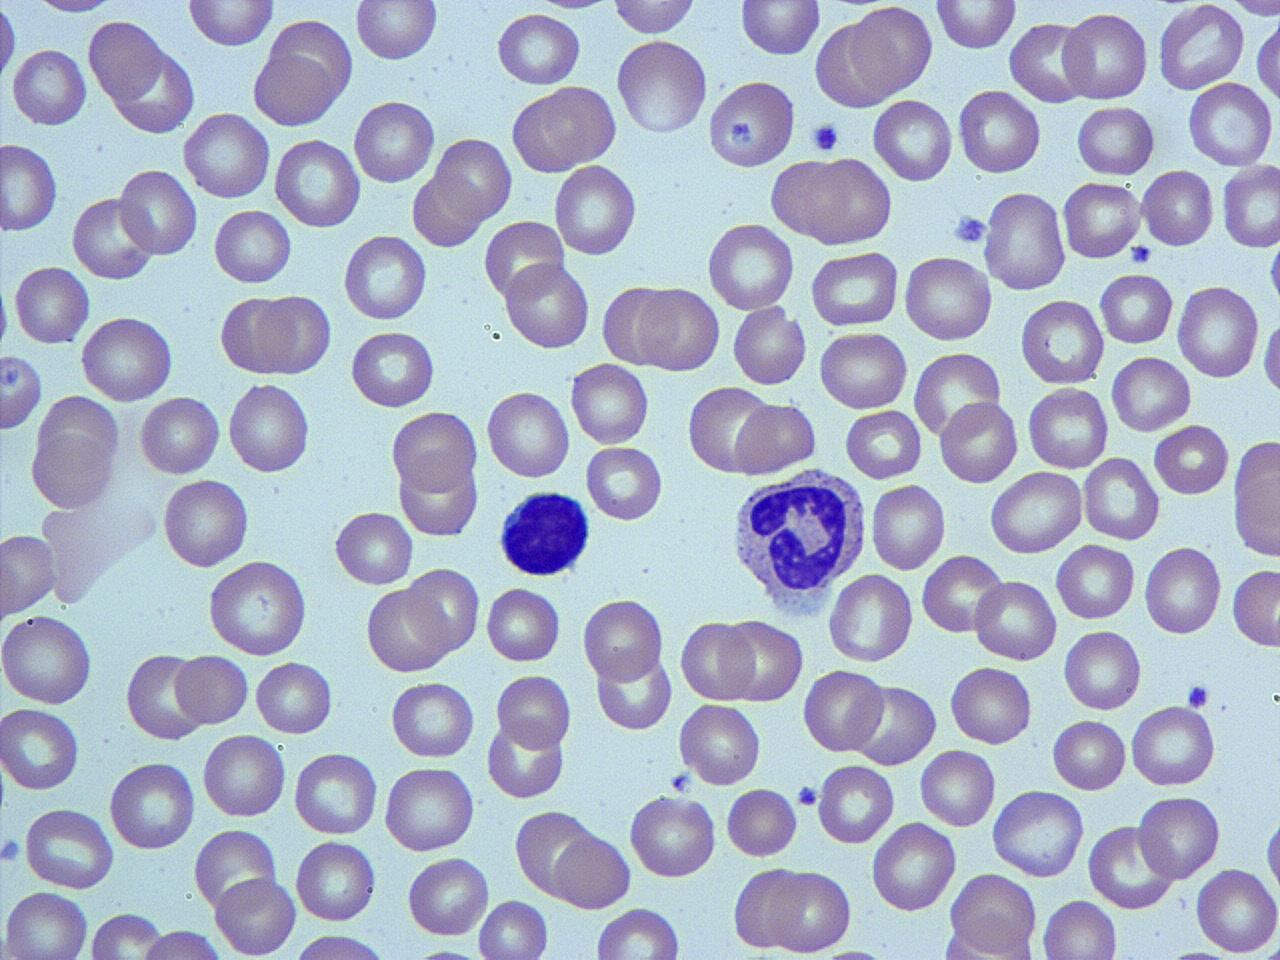Platelets: (950, 211, 990, 247), (809, 119, 841, 156), (823, 942, 884, 960), (0, 284, 13, 352), (0, 832, 24, 866), (1185, 683, 1213, 710), (794, 782, 820, 810), (1127, 241, 1153, 267)
RBC: (208, 558, 310, 659), (613, 35, 709, 137), (0, 610, 96, 708), (982, 187, 1070, 292), (78, 312, 177, 405), (160, 474, 252, 572), (551, 159, 639, 261), (704, 219, 796, 315), (990, 788, 1086, 880), (911, 347, 1004, 441), (626, 790, 719, 884), (272, 134, 363, 230), (502, 258, 592, 355), (986, 469, 1084, 558), (869, 818, 958, 916), (380, 765, 478, 854), (224, 378, 312, 477), (180, 109, 273, 202), (107, 758, 197, 854), (826, 569, 915, 666), (484, 386, 572, 484), (1060, 8, 1150, 103), (1175, 280, 1261, 379), (706, 77, 796, 171), (340, 230, 429, 324), (900, 254, 994, 343), (112, 40, 198, 137), (1154, 3, 1246, 93), (815, 328, 912, 413), (1141, 542, 1225, 640), (1018, 294, 1106, 387), (200, 729, 288, 822), (192, 824, 278, 919), (1086, 820, 1174, 912), (1186, 78, 1274, 169), (956, 86, 1043, 178), (686, 383, 772, 476), (23, 804, 116, 890), (676, 700, 764, 790), (292, 747, 379, 838), (847, 4, 933, 96), (1193, 864, 1279, 956), (1136, 791, 1222, 882), (568, 357, 652, 450), (946, 871, 1040, 954), (800, 668, 888, 756), (351, 97, 437, 187), (808, 246, 900, 330), (388, 409, 481, 492), (136, 392, 223, 480), (404, 854, 493, 940), (117, 165, 198, 259), (33, 394, 120, 481), (396, 452, 482, 540), (636, 284, 722, 372), (579, 596, 665, 684), (1131, 702, 1217, 790), (972, 575, 1058, 663), (868, 481, 948, 575), (806, 158, 892, 245), (292, 837, 378, 924), (947, 662, 1034, 748), (349, 326, 437, 411), (364, 586, 448, 675), (870, 95, 954, 184), (125, 648, 204, 742), (854, 680, 940, 766), (69, 193, 153, 281), (768, 867, 852, 955), (0, 704, 82, 794), (724, 614, 804, 706), (213, 874, 298, 960), (768, 153, 852, 240), (482, 216, 565, 304), (388, 678, 477, 760), (486, 713, 567, 803), (920, 551, 1004, 637), (814, 760, 896, 848), (1082, 452, 1162, 542), (1025, 384, 1109, 469), (939, 398, 1020, 486), (495, 8, 584, 88), (332, 506, 416, 590), (28, 432, 116, 512), (405, 563, 480, 656), (1061, 177, 1143, 262), (210, 206, 295, 288), (1108, 352, 1194, 433), (1008, 18, 1088, 105), (13, 260, 92, 348), (1054, 540, 1136, 624), (1061, 627, 1141, 713), (917, 744, 997, 830), (482, 581, 562, 667), (86, 17, 165, 104), (436, 134, 515, 221), (678, 617, 756, 705), (256, 291, 336, 375), (1139, 165, 1217, 251), (730, 302, 807, 389), (552, 831, 633, 913), (583, 442, 664, 524), (253, 656, 334, 738), (249, 52, 337, 127), (600, 282, 674, 371), (1, 887, 91, 960), (594, 650, 674, 732), (11, 45, 88, 130), (495, 670, 573, 753), (1051, 714, 1129, 796), (733, 400, 818, 475), (1230, 434, 1280, 560), (745, 862, 816, 950), (172, 648, 250, 728), (543, 83, 619, 165), (1072, 103, 1156, 177), (409, 170, 486, 250), (1151, 422, 1231, 498), (218, 292, 290, 376), (1099, 269, 1175, 348), (510, 89, 579, 175), (723, 782, 799, 860), (843, 408, 922, 481), (0, 139, 60, 235), (352, 1, 439, 64), (1220, 162, 1280, 251), (592, 904, 686, 960), (1039, 895, 1119, 960), (476, 894, 552, 960), (0, 530, 58, 616), (737, 1, 821, 59), (184, 0, 276, 51), (932, 0, 1018, 54), (1230, 564, 1280, 651), (940, 919, 1039, 960), (87, 910, 166, 960), (0, 351, 45, 434), (606, 0, 702, 37), (287, 931, 397, 960), (136, 926, 229, 960), (1252, 18, 1280, 105), (29, 0, 124, 20), (1259, 310, 1279, 403), (0, 3, 18, 89)
WBC: (728, 463, 868, 619), (494, 484, 595, 580)
